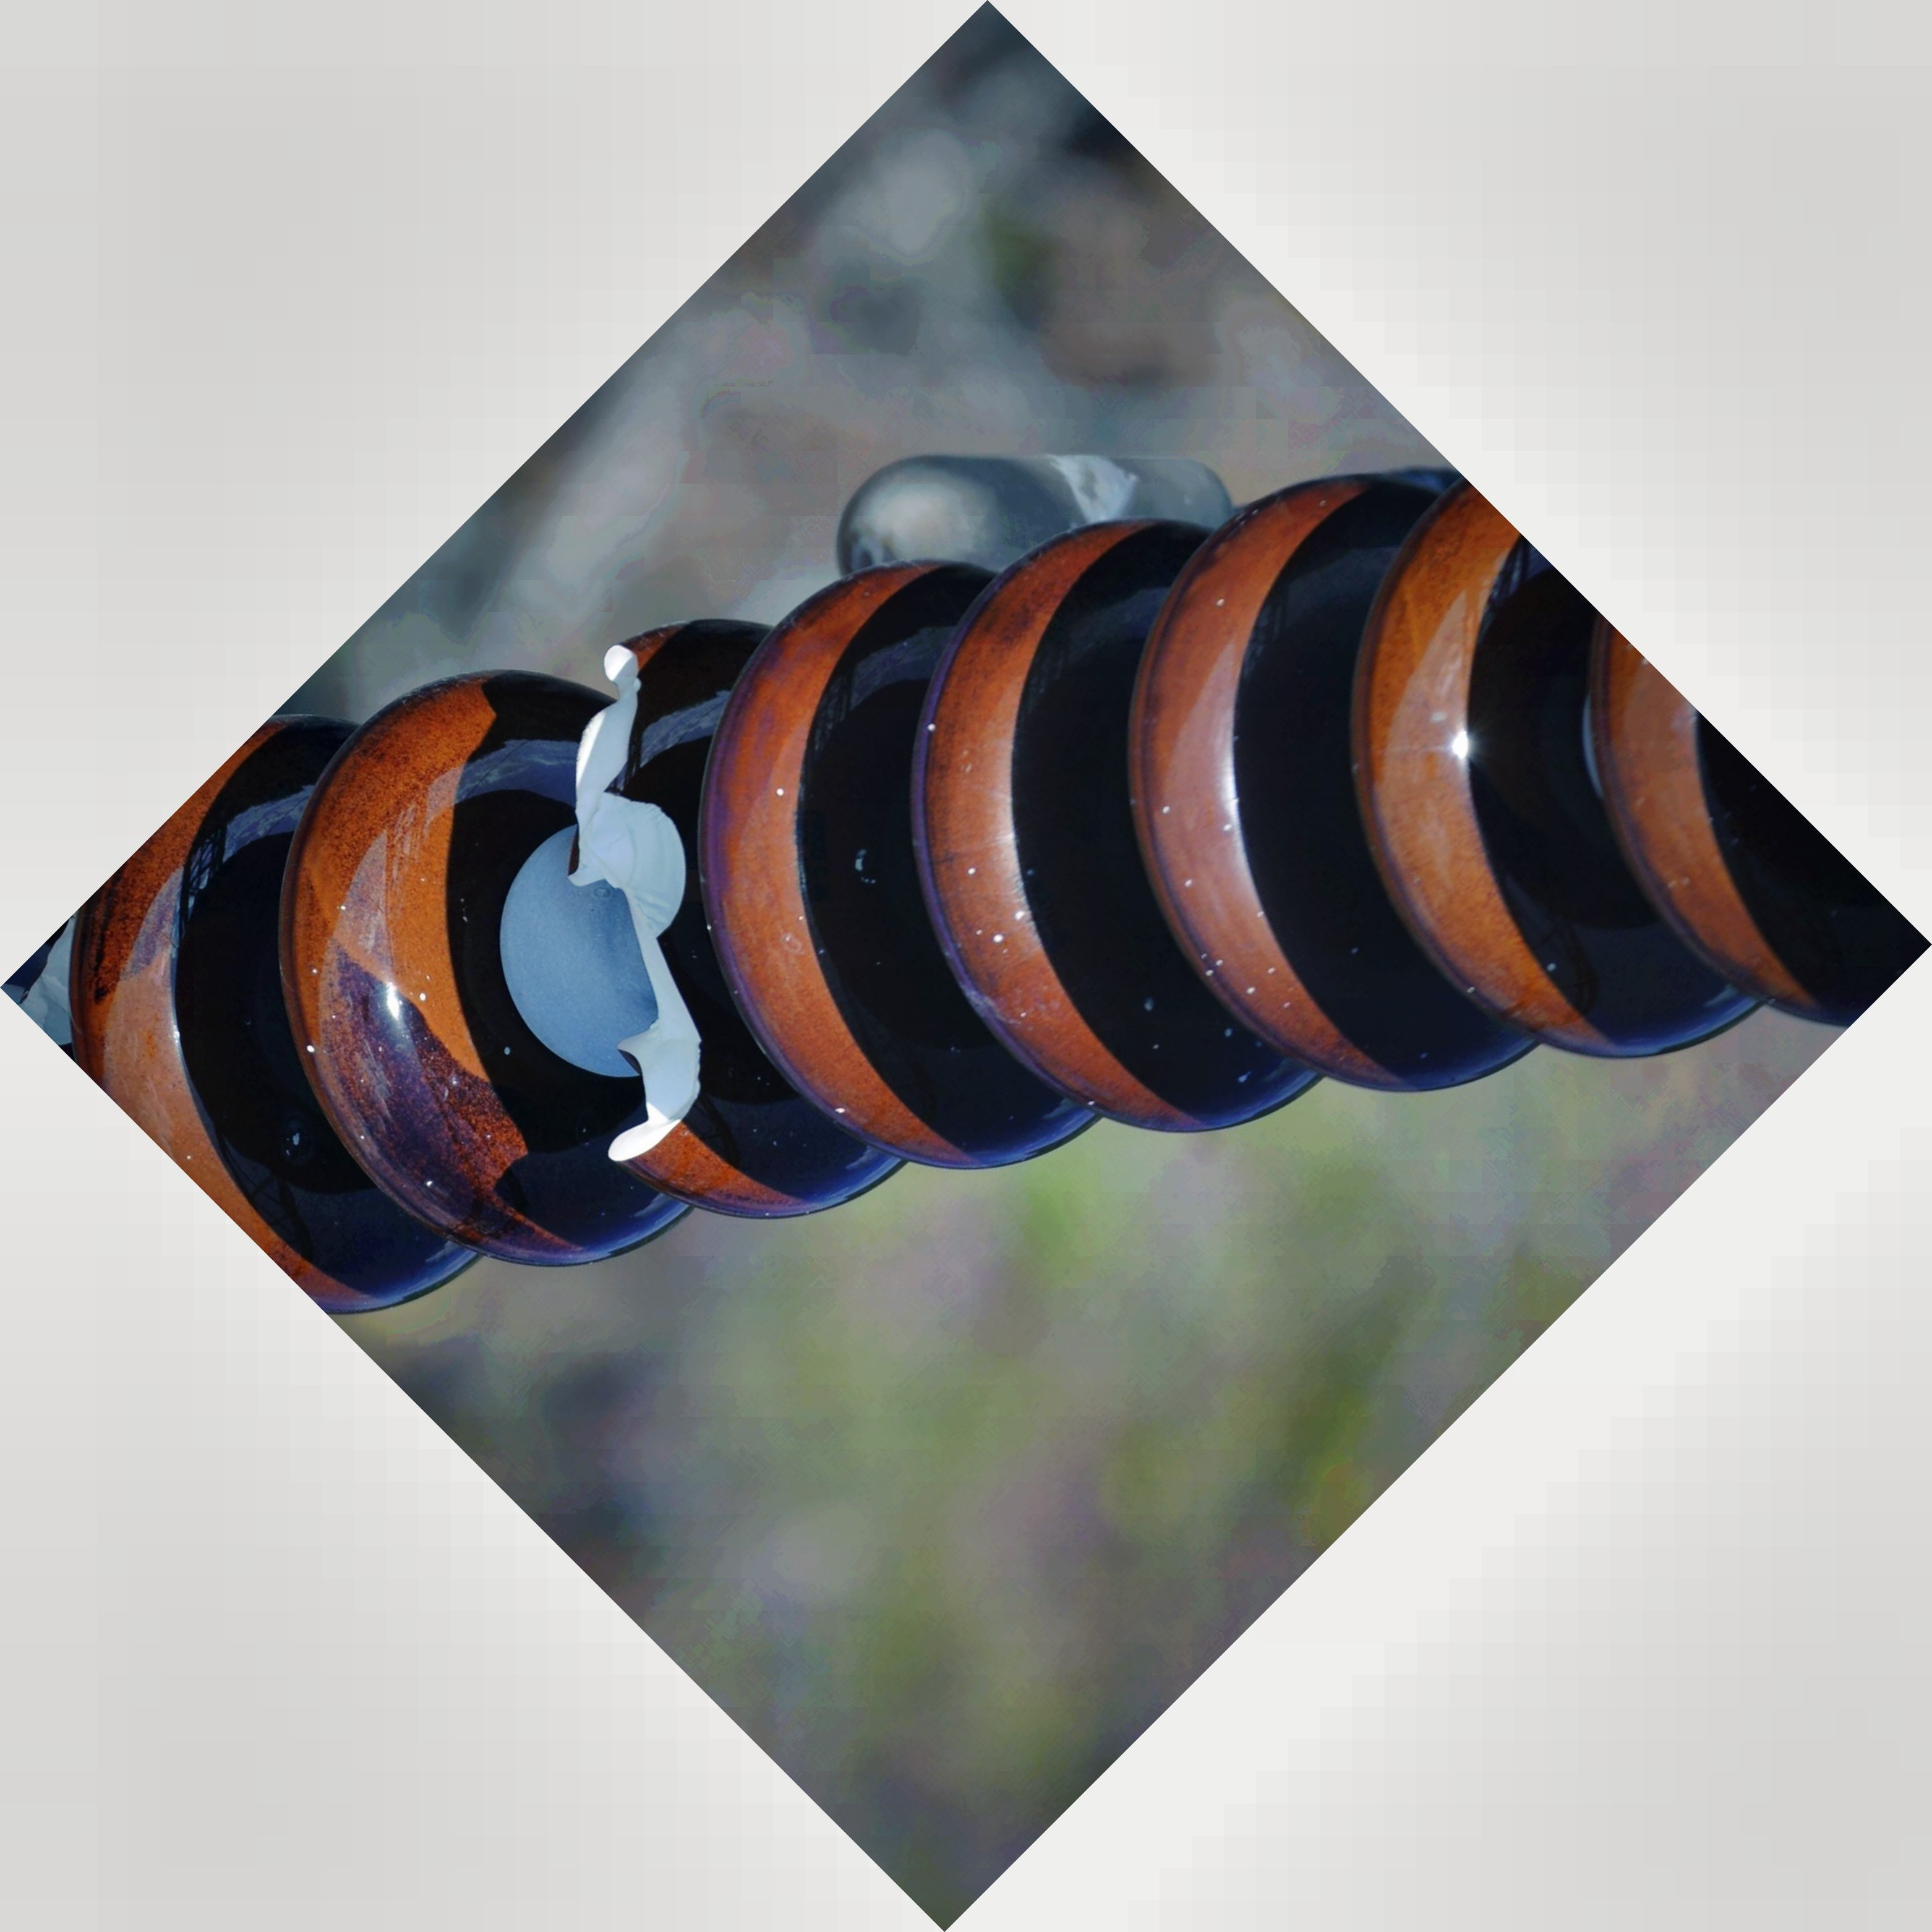insulator breakage: (534, 598, 902, 1217)
